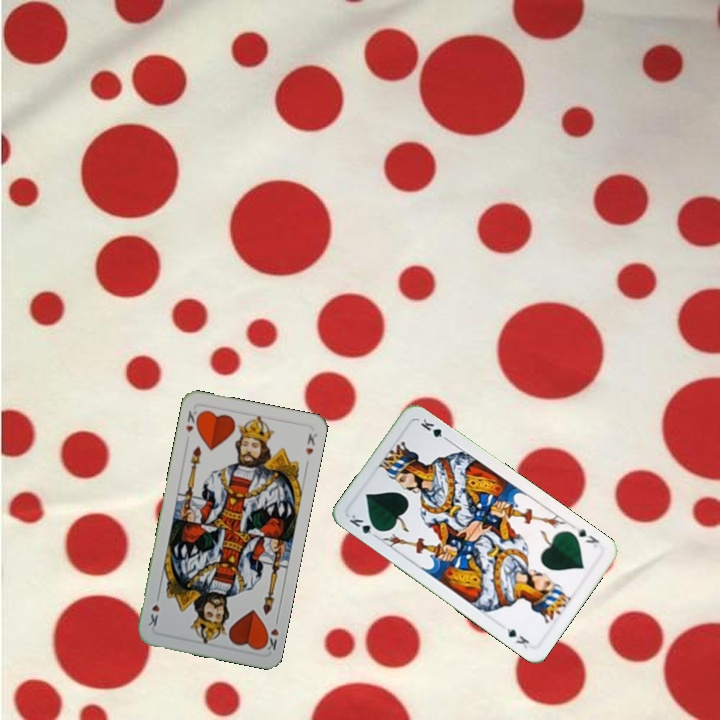GK: (345, 510, 383, 541), (566, 524, 601, 550)
HK: (259, 613, 281, 654), (182, 406, 200, 435)
